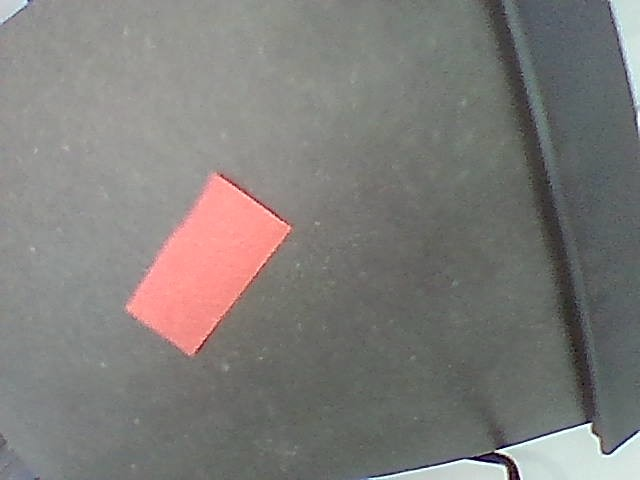card: (126, 175, 290, 355)
